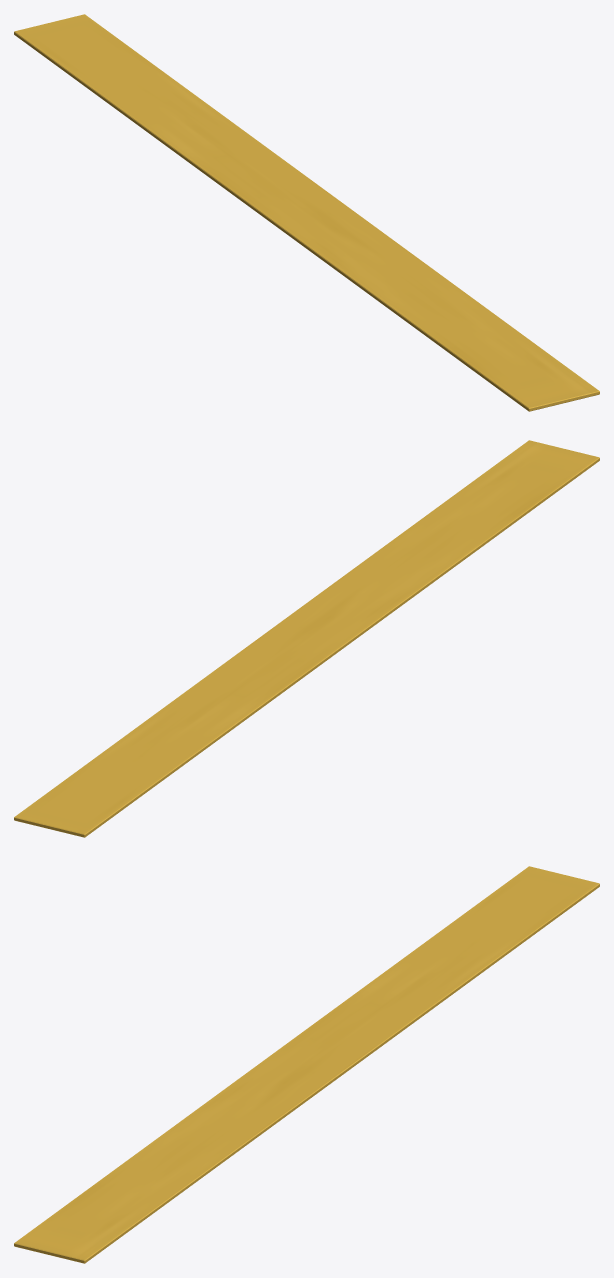
The model's file is showcase_road_dash.glb.
3 views of the same model, one above another, from view 1: azimuth 30°, elevation 25°; view 2: azimuth 150°, elevation 25°; view 3: azimuth 330°, elevation 25° (orthographic).
Visible parts, largest first — view 1: outdoor_showcase_road_dash; view 2: outdoor_showcase_road_dash; view 3: outdoor_showcase_road_dash.
Boxes of the visible parts, x1=… form: outdoor_showcase_road_dash: x1=14, y1=14, x2=599, y2=411; outdoor_showcase_road_dash: x1=14, y1=440, x2=599, y2=837; outdoor_showcase_road_dash: x1=14, y1=866, x2=599, y2=1263.
Size of the model in its own units: 0.12 by 0.006 by 1.5.
Materials: 1 (1 with a texture image).
